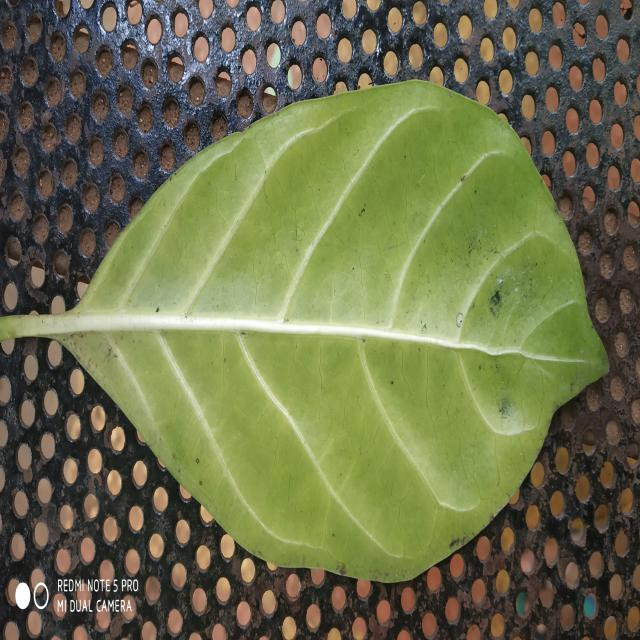leaf: (0, 77, 610, 583)
